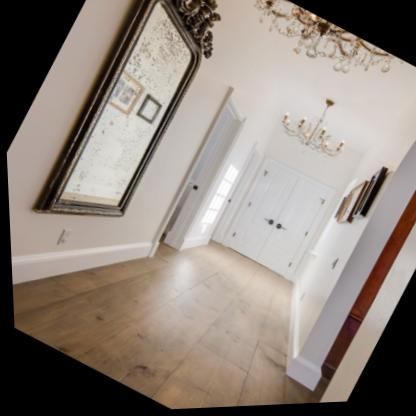Wooden floor: (10, 244, 316, 411)
